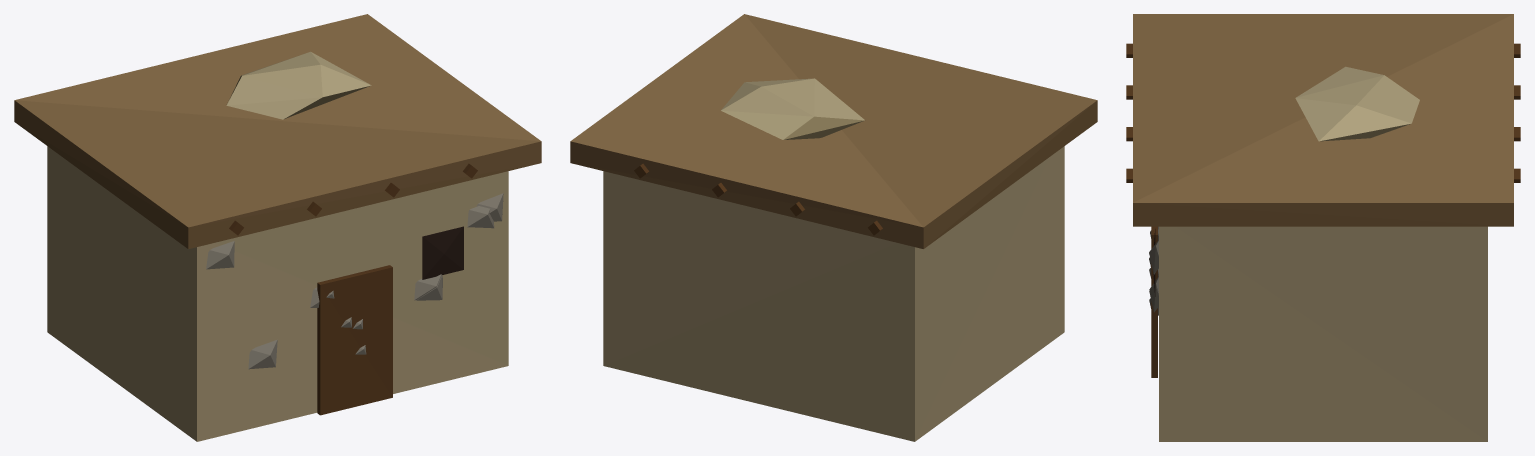
File: hut.glb
3 renders of one model, left to right at view 1: azimuth 30°, elevation 25°; view 2: azimuth 150°, elevation 25°; view 3: azimuth 270°, elevation 25°, orthographic. The views are drawn at different scales.
Visible parts, largest first — view 1: base; view 2: base; view 3: base.
Part boxes in pixels (box(x1,y1,x2,y2)): base: box(14, 14, 541, 441); base: box(570, 14, 1097, 441); base: box(1126, 14, 1520, 441).
Size of the model in its own units: 0.68 by 0.477 by 0.6.
